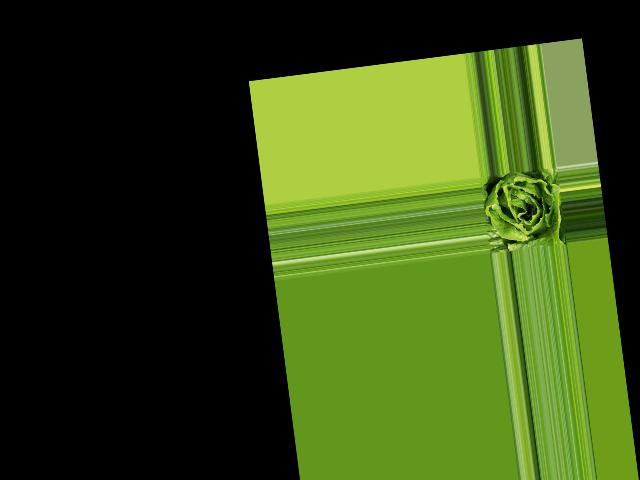lettuce: (480, 167, 566, 254)
